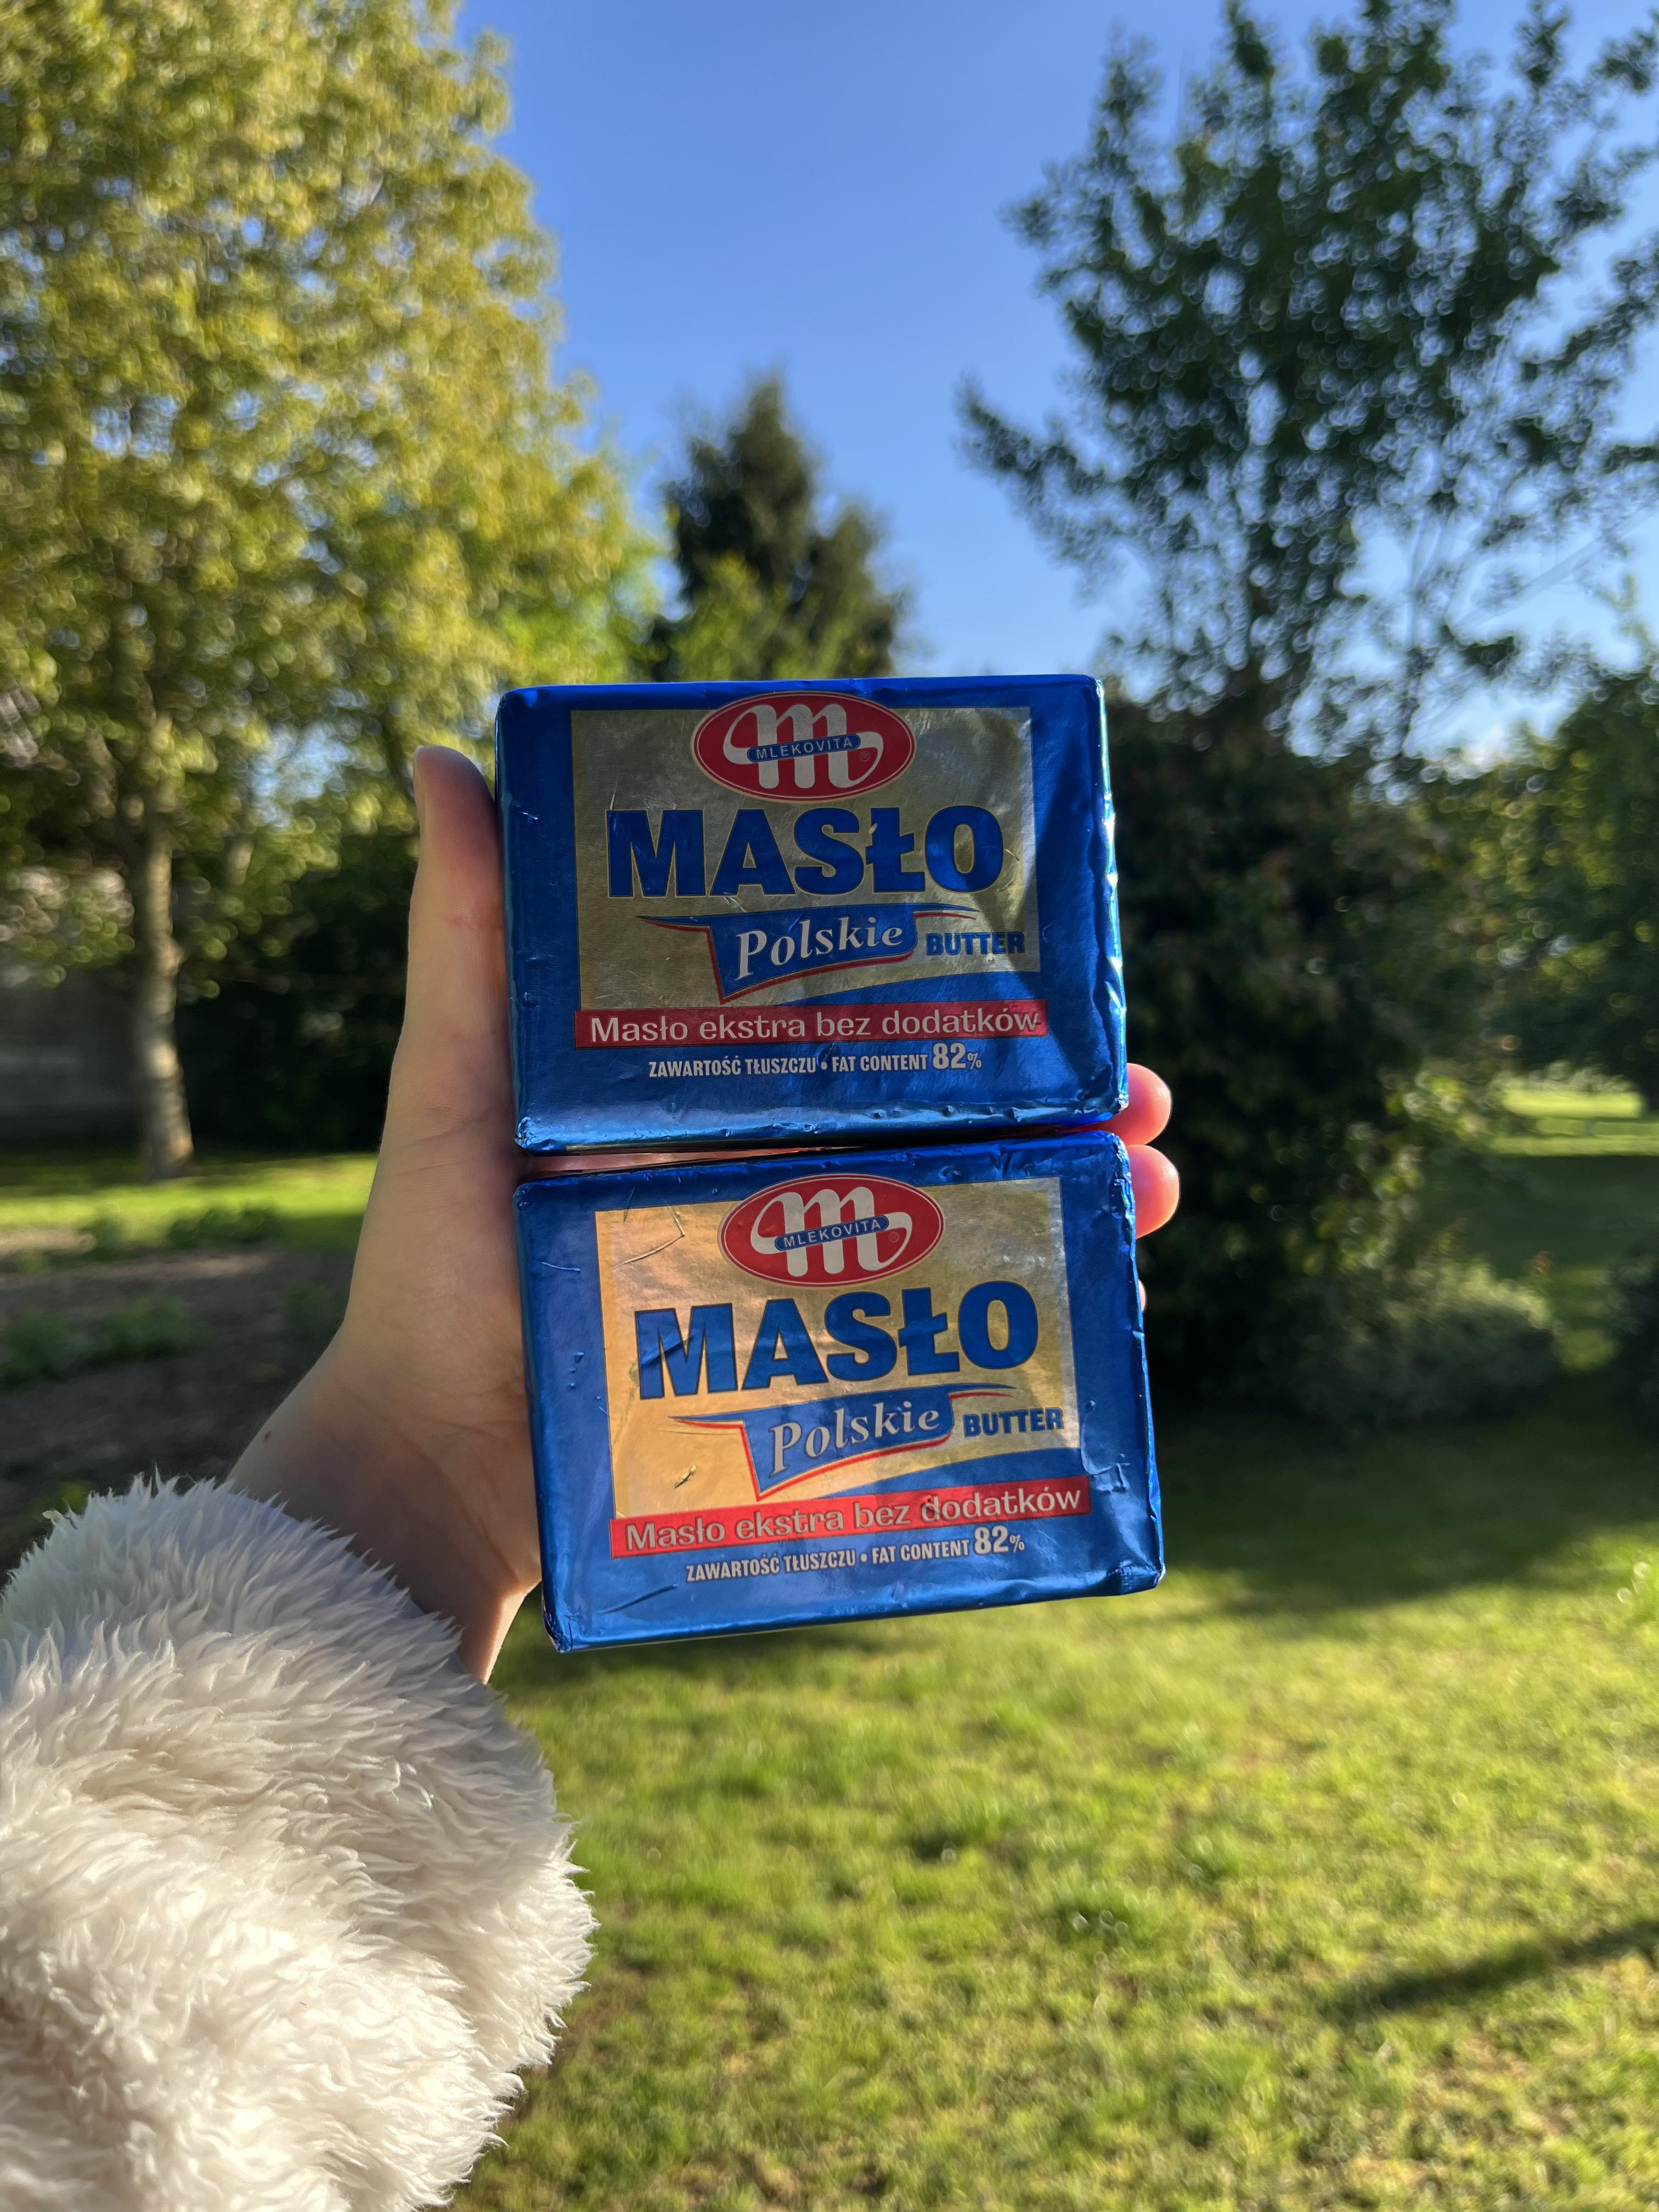Butter: (509, 671, 1131, 1139), (537, 1163, 1169, 1616)
